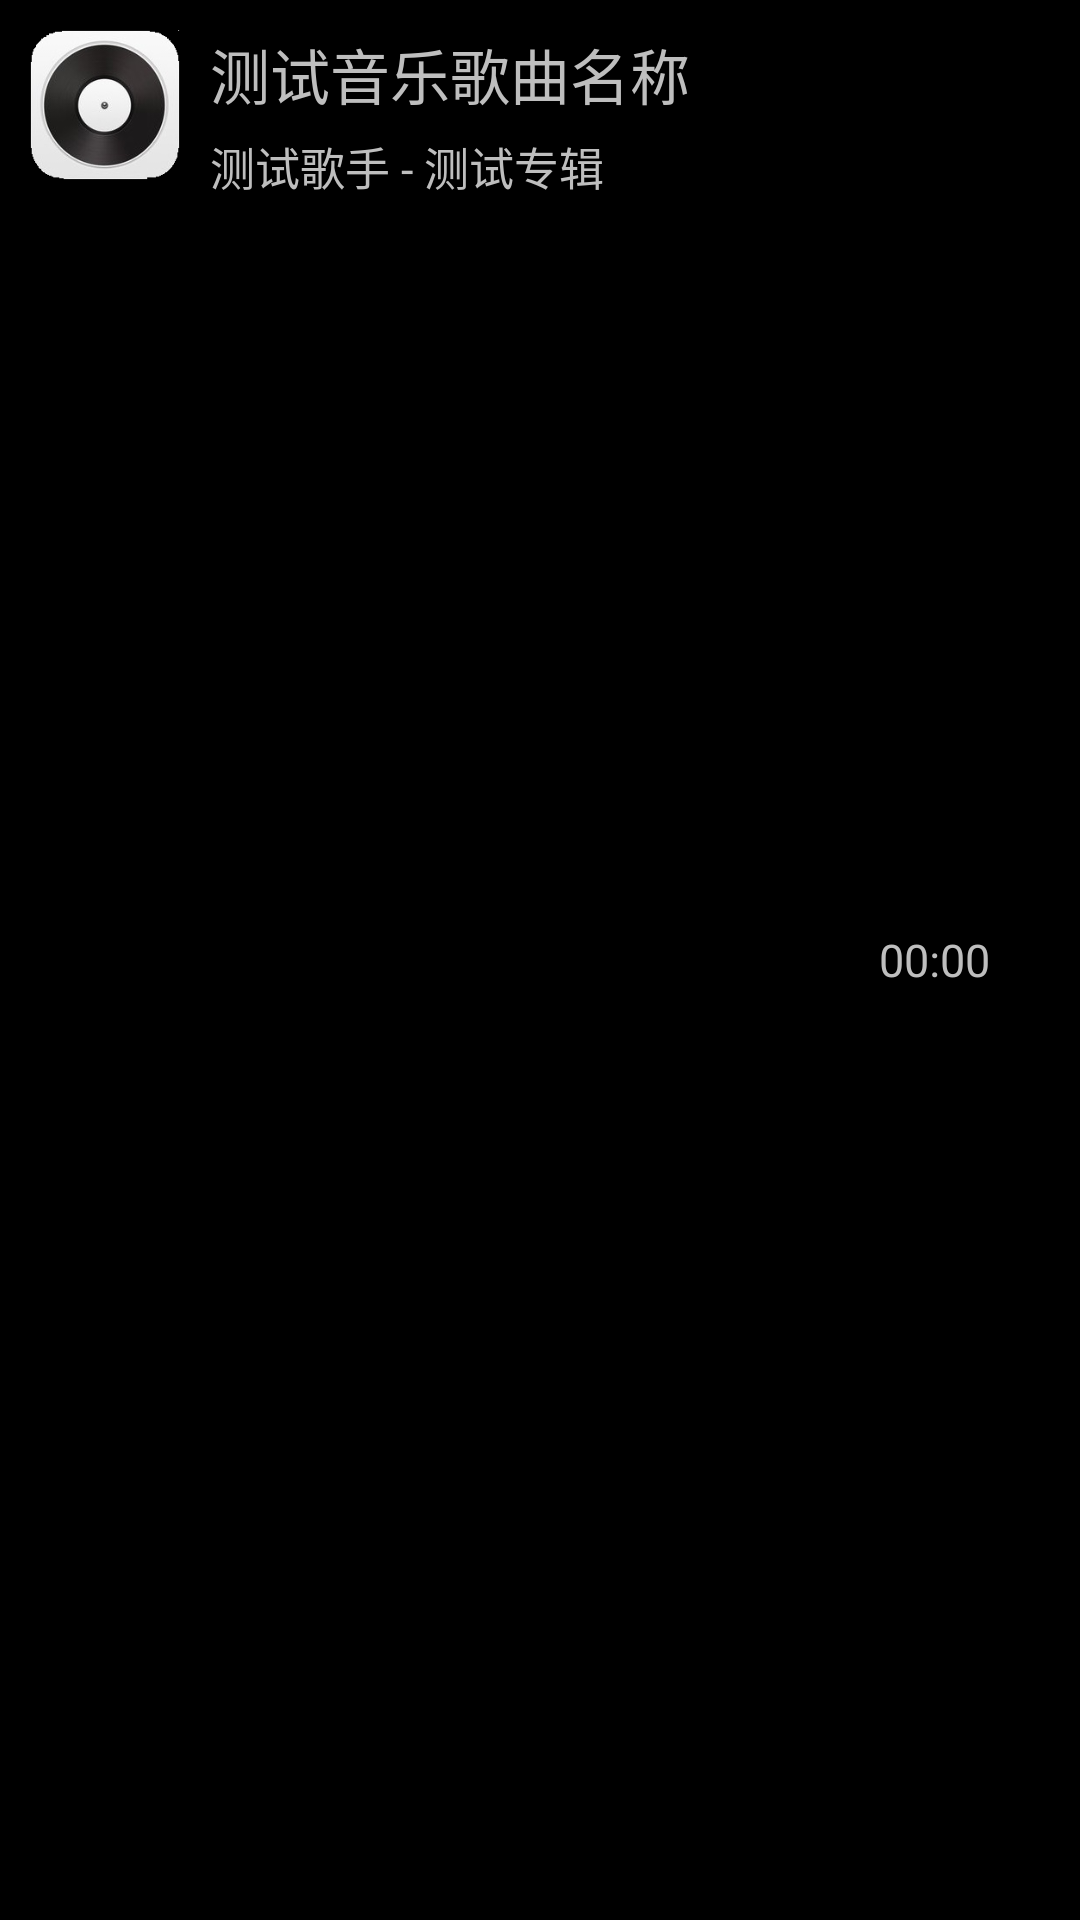

Locate icon controls on the screen. Image size 1080 x 1920, boxes as [left=x1, top=y1, right=x2, bottom=y2].
music: [left=31, top=30, right=179, bottom=179]
